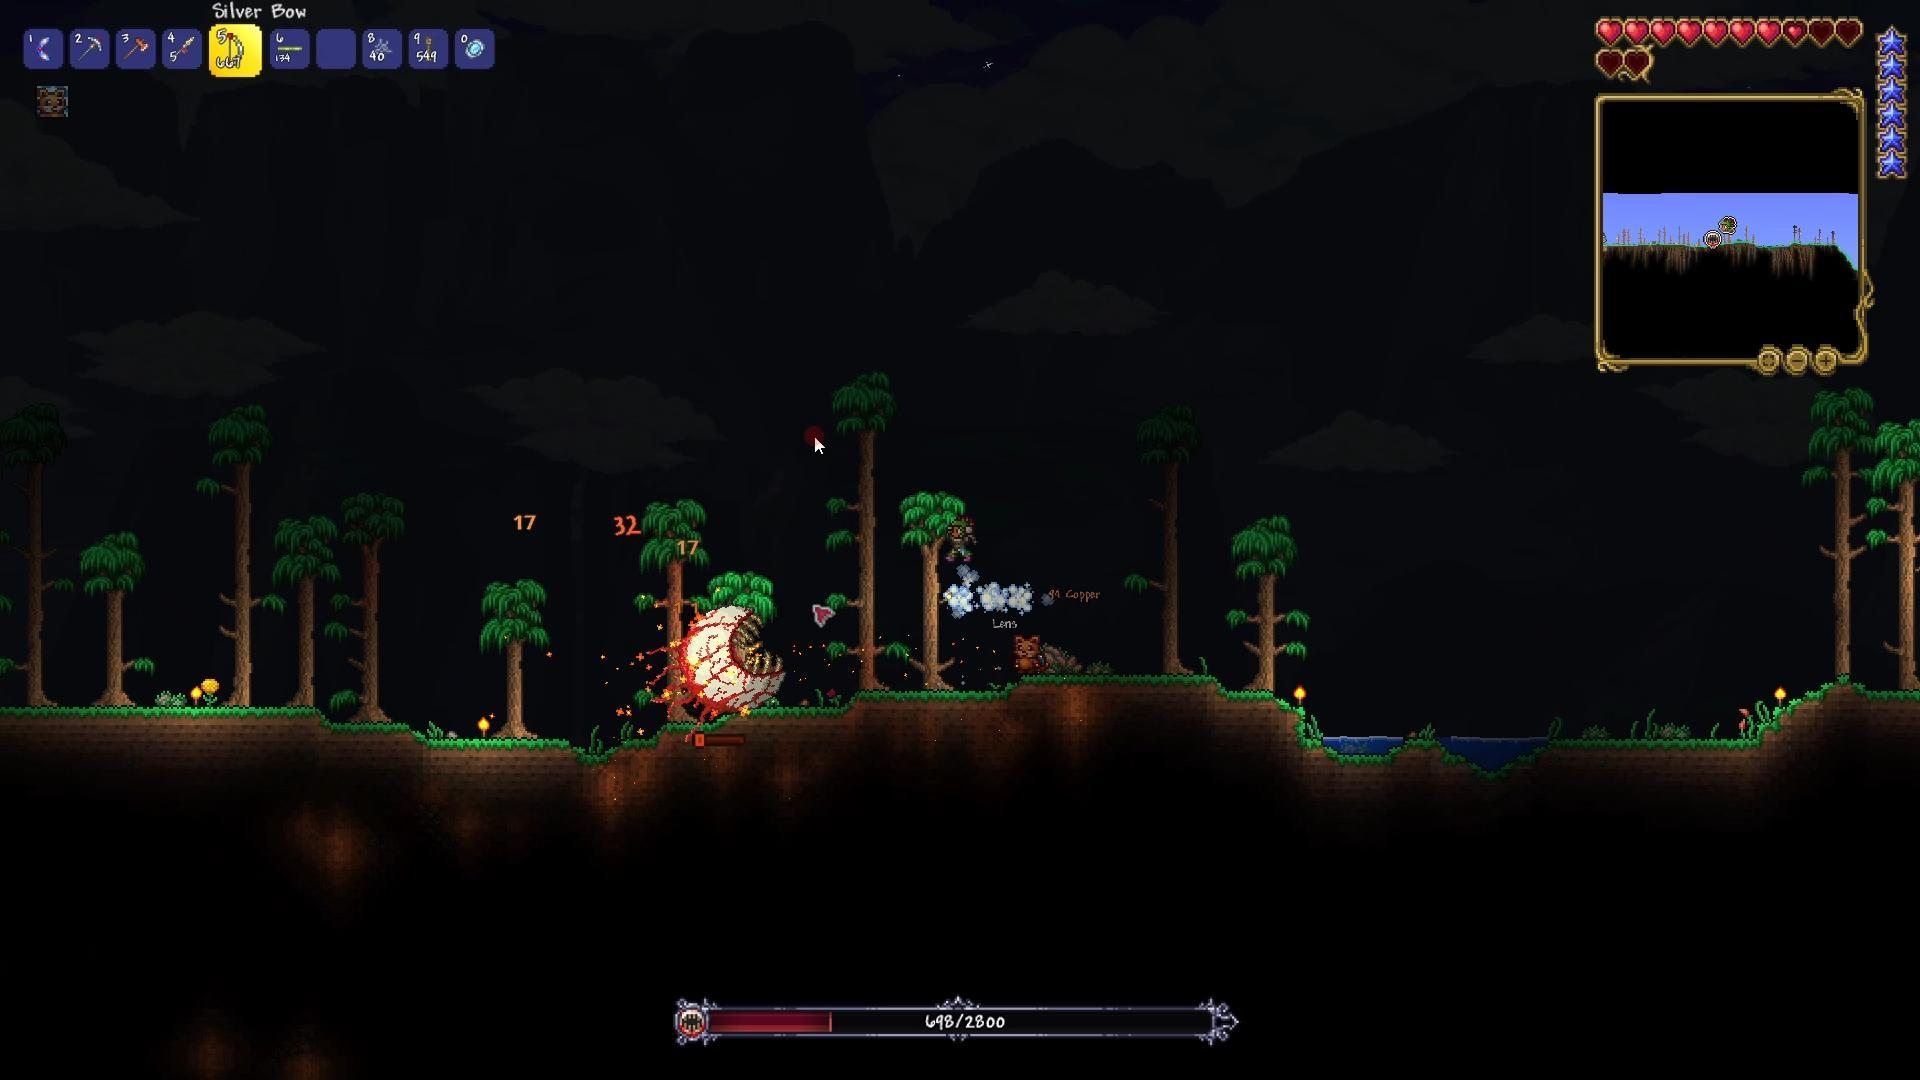dirt: (13, 694, 320, 777), (865, 682, 1033, 746), (1212, 682, 1350, 756), (1767, 684, 1912, 752), (1042, 669, 1212, 721), (411, 728, 570, 781), (1559, 727, 1763, 758), (306, 715, 417, 756), (775, 698, 853, 745)
